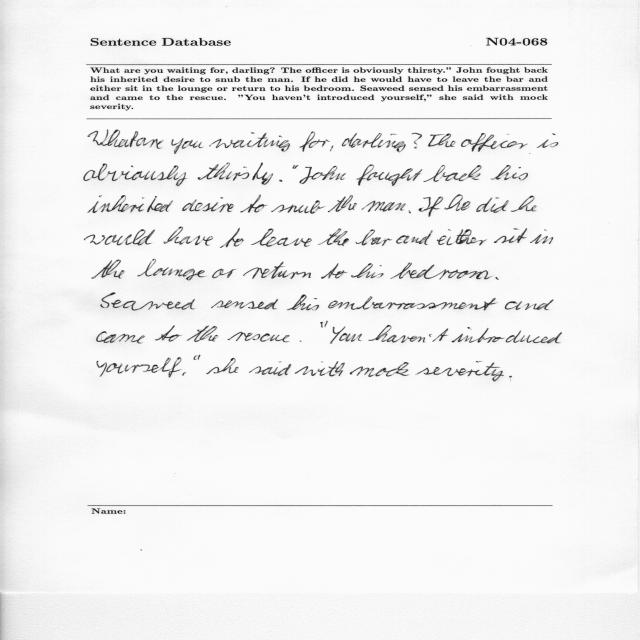word: (84, 164, 187, 187), (328, 297, 496, 311), (452, 327, 562, 344), (416, 361, 504, 381), (391, 263, 493, 280), (101, 293, 195, 311), (97, 358, 181, 378), (198, 163, 273, 185), (209, 132, 290, 152), (88, 195, 173, 213), (342, 133, 422, 152), (138, 259, 206, 281), (357, 164, 423, 186), (369, 325, 449, 343), (461, 133, 528, 152), (251, 228, 312, 247), (243, 262, 311, 279), (84, 230, 155, 246), (423, 165, 482, 182), (164, 227, 214, 246), (88, 130, 138, 148), (350, 362, 409, 377), (299, 166, 346, 184), (437, 229, 487, 245), (182, 197, 234, 212), (294, 362, 345, 377), (271, 200, 325, 214), (211, 299, 278, 309), (92, 259, 124, 279), (96, 331, 145, 344), (249, 361, 291, 376), (355, 229, 392, 246), (228, 332, 290, 342), (530, 133, 559, 154), (300, 132, 330, 152), (330, 326, 362, 344), (318, 228, 349, 246), (491, 165, 528, 180), (396, 230, 433, 245), (171, 138, 204, 154), (476, 197, 509, 213), (206, 358, 239, 374), (187, 325, 218, 342), (287, 295, 319, 311), (419, 197, 444, 217), (361, 201, 406, 212), (494, 228, 527, 243), (351, 264, 384, 279), (328, 195, 357, 212), (505, 300, 554, 310), (241, 195, 268, 213), (220, 228, 244, 248), (155, 325, 182, 342), (444, 195, 470, 211), (511, 196, 537, 212), (321, 263, 347, 279), (428, 134, 455, 147), (530, 229, 553, 244), (136, 138, 163, 149), (212, 269, 236, 278), (321, 321, 328, 327), (194, 355, 200, 360), (293, 165, 299, 169), (330, 146, 333, 152), (182, 372, 186, 376), (495, 277, 499, 280), (408, 211, 411, 214), (279, 180, 283, 182), (414, 147, 417, 149), (509, 376, 512, 377), (300, 341, 301, 342)
